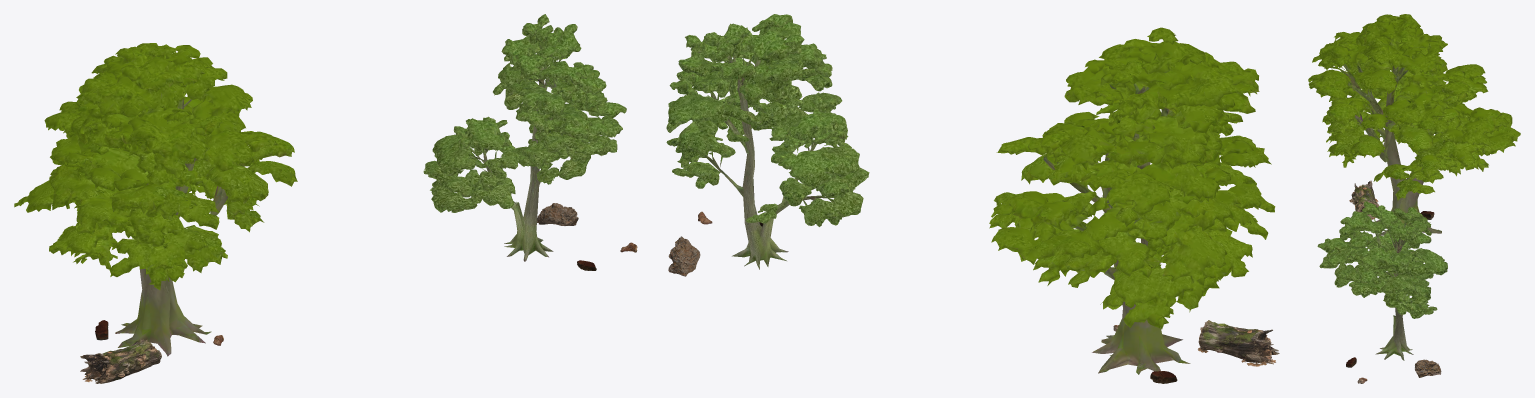
Rendered from forest-near-frame.glb.
3 views of the same model, side by side, from view 1: azimuth 30°, elevation 25°; view 2: azimuth 150°, elevation 25°; view 3: azimuth 270°, elevation 25° (orthographic). The views are drawn at different scales.
Visible parts, largest first — view 1: ForestNearFrameTree_southwest-canopy-frame, ForestNearFrameTree_southeast-middle-frame, ForestNearFrameProp_southwest-windfall_Mesh_0, ForestNearFrameProp_southeast-weathered-boulder_boulder_01; view 2: ForestNearFrameTree_southwest-canopy-frame, ForestNearFrameTree_southeast-middle-frame, ForestNearFrameProp_southwest-windfall_Mesh_0, ForestNearFrameProp_southeast-weathered-boulder_boulder_01; view 3: ForestNearFrameTree_southwest-canopy-frame, ForestNearFrameTree_southeast-middle-frame, ForestNearFrameProp_southwest-windfall_Mesh_0, ForestNearFrameProp_southeast-weathered-boulder_boulder_01.
Boxes of the visible parts, x1,y1,x2,y2 form: ForestNearFrameTree_southwest-canopy-frame: (14,43,297,356); ForestNearFrameTree_southeast-middle-frame: (423,14,626,261); ForestNearFrameProp_southwest-windfall_Mesh_0: (80,339,161,383); ForestNearFrameProp_southeast-weathered-boulder_boulder_01: (537,203,578,225); ForestNearFrameTree_southwest-canopy-frame: (989,27,1275,374); ForestNearFrameTree_southeast-middle-frame: (666,14,869,269); ForestNearFrameProp_southwest-windfall_Mesh_0: (1198,320,1279,366); ForestNearFrameProp_southeast-weathered-boulder_boulder_01: (668,236,700,276); ForestNearFrameTree_southwest-canopy-frame: (1308,14,1520,235); ForestNearFrameTree_southeast-middle-frame: (1317,201,1447,360); ForestNearFrameProp_southwest-windfall_Mesh_0: (1349,180,1379,219); ForestNearFrameProp_southeast-weathered-boulder_boulder_01: (1415,359,1441,377).
Size of the model in its own units: 34.07 by 17.88 by 16.17.
Materials: 6 (6 with a texture image).
